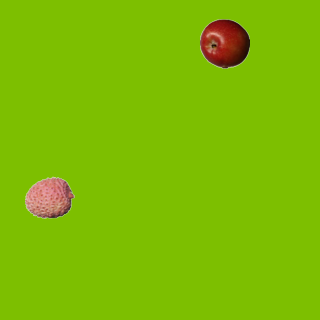Apple Braeburn: (199, 18, 249, 68)
Lychee: (24, 172, 74, 222)
